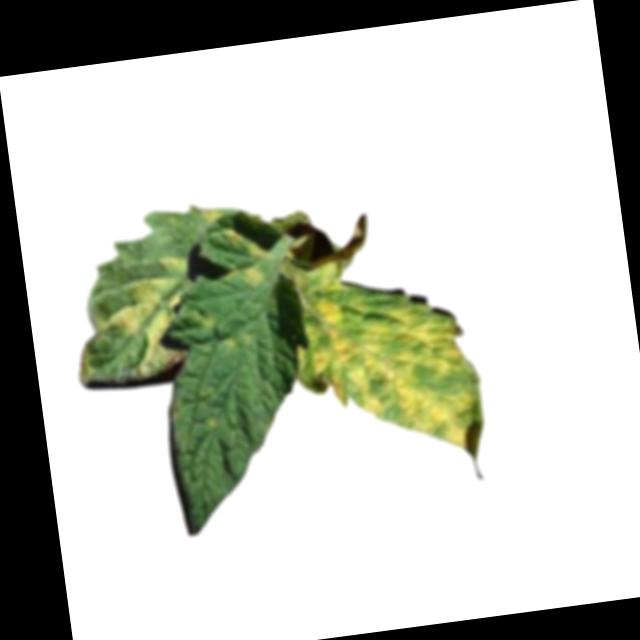Leaf_Mold: (288, 245, 492, 481), (103, 252, 203, 377), (219, 261, 268, 288), (243, 242, 273, 264), (197, 205, 224, 229), (219, 228, 242, 249)
